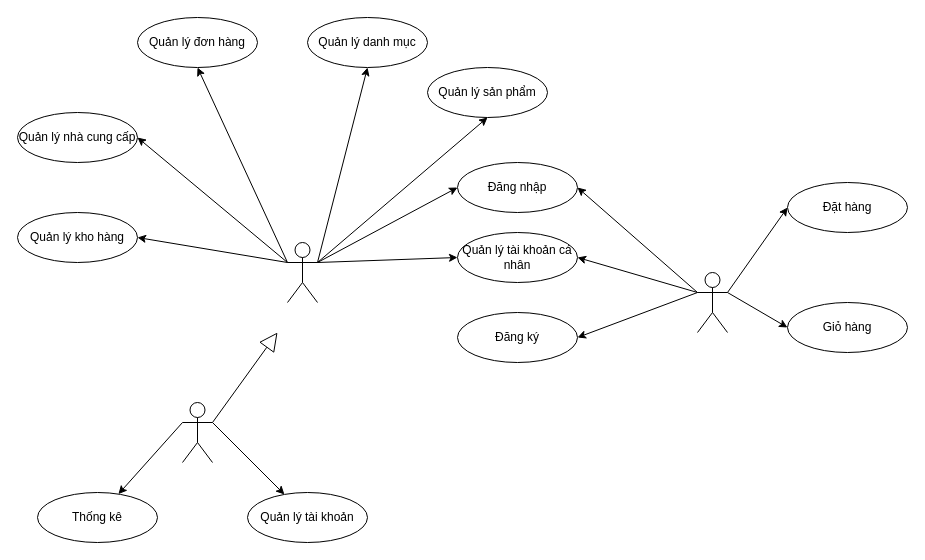
Some shapes in this 925 by 560 pixel diagram are drawn without their labels. The shapes that lost their labels are listed below. From the top down, each one's centre as x and y in pixels, then its label:
At point (302, 272): "Nhân viên".
At point (712, 302): "Khách hàng".
At point (197, 432): "Quản trị viên".
